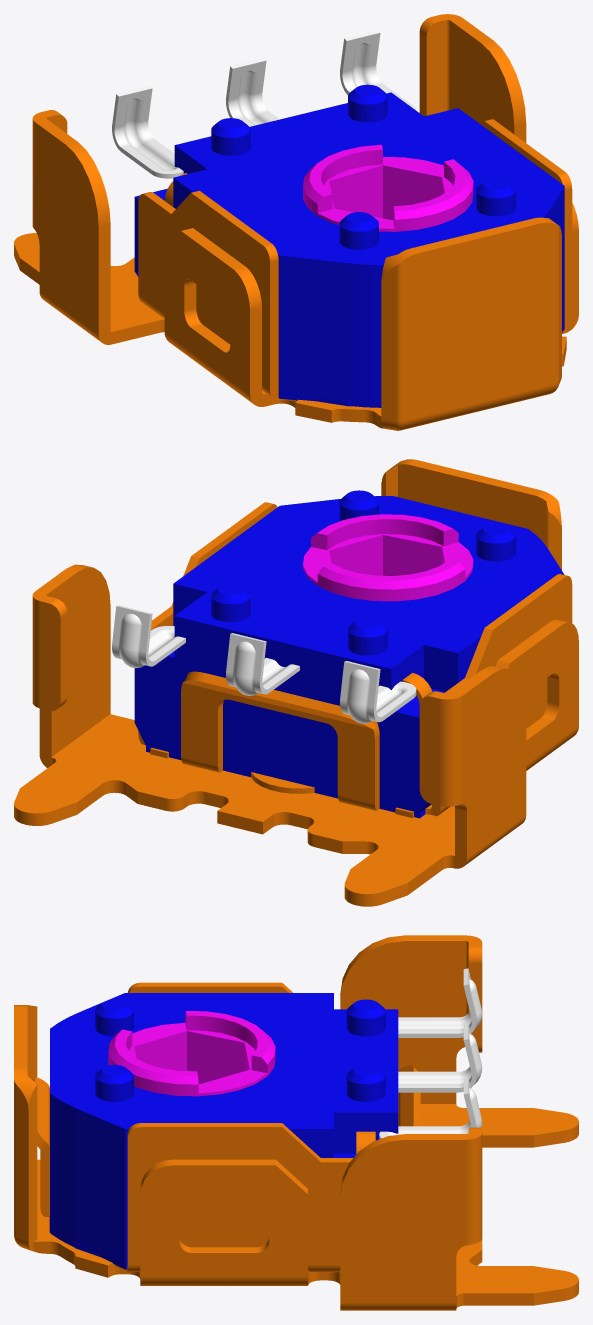
The picture shows the model from 3 angles, top to bottom: view 1: azimuth 30°, elevation 25°; view 2: azimuth 150°, elevation 25°; view 3: azimuth 270°, elevation 25°; orthographic projection. The views are drawn at different scales.
Parts seen in each view (by area): view 1: ec05e1220202_1; view 2: ec05e1220202_1; view 3: ec05e1220202_1.
Part boxes in pixels (box(x1,y1,x2,y2)): ec05e1220202_1: box(14, 14, 578, 430); ec05e1220202_1: box(14, 459, 578, 906); ec05e1220202_1: box(14, 935, 578, 1310).
Size of the model in its own units: 7.5 by 3.27 by 8.76.
